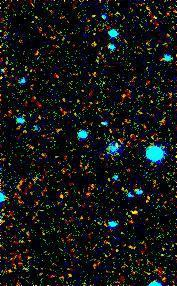star: (119, 194, 149, 224)
